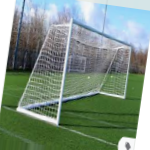goals: (16, 16, 133, 129)
